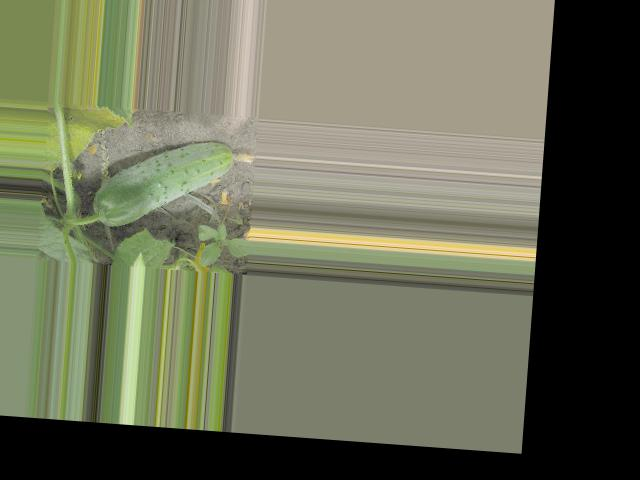cucumber: (92, 132, 256, 236)
